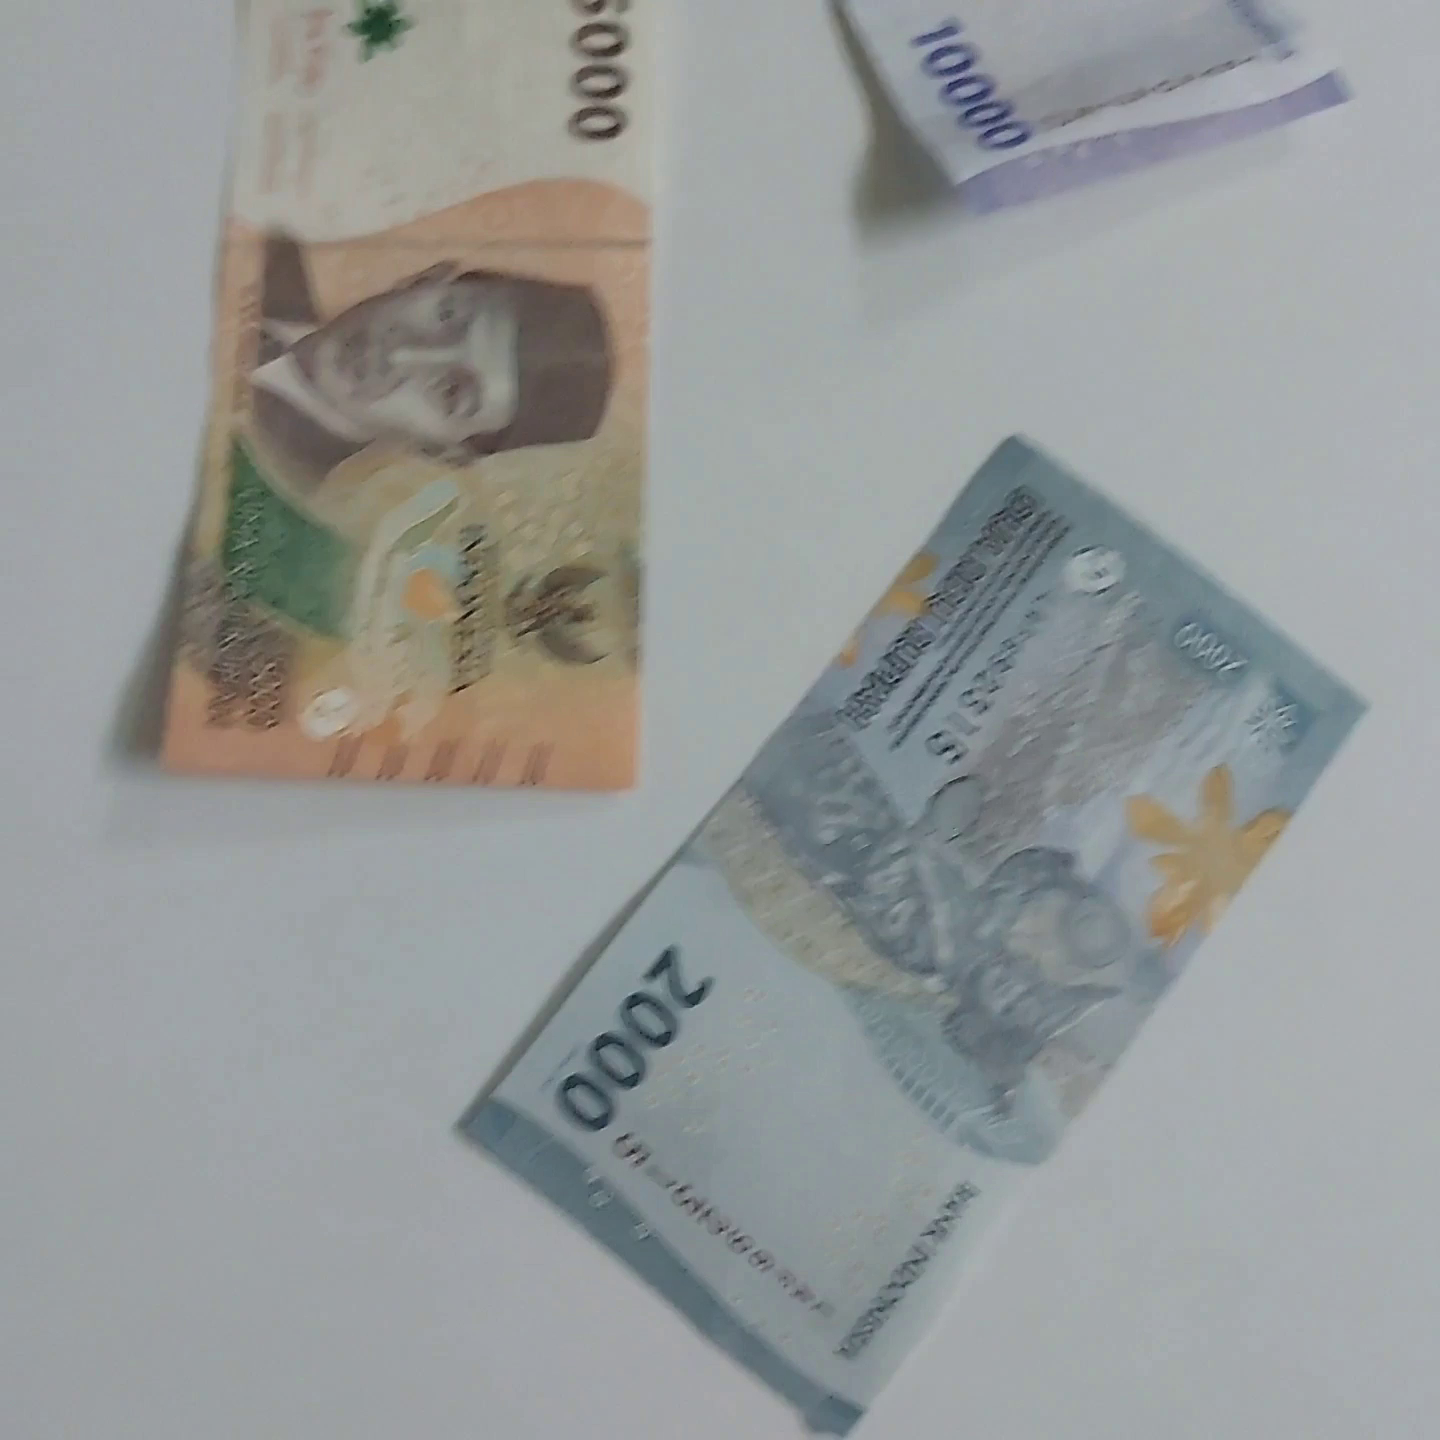2k: (945, 400, 1440, 1308)
5k: (170, 0, 655, 823)
